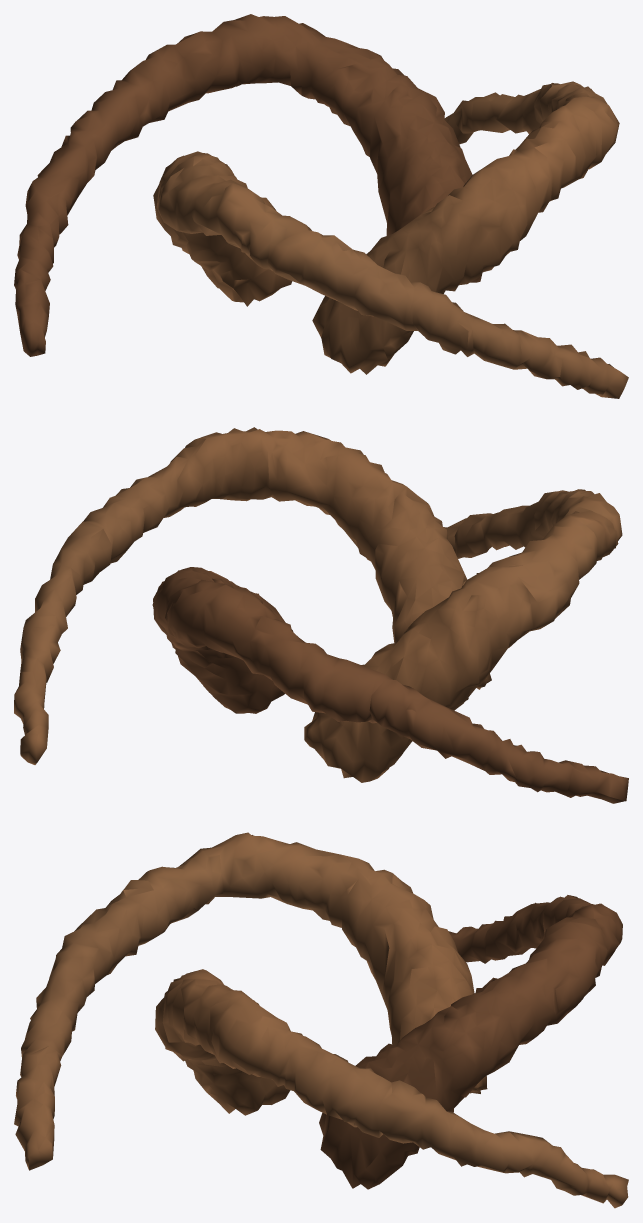
The model's file is glade_root_coil.glb.
The picture shows the model from 3 angles, top to bottom: view 1: azimuth 30°, elevation 25°; view 2: azimuth 150°, elevation 25°; view 3: azimuth 270°, elevation 25°; orthographic projection.
Visible parts, largest first — view 1: glade_root_coil; view 2: glade_root_coil; view 3: glade_root_coil.
Boxes of the visible parts, x1,y1,x2,y2 form: glade_root_coil: [14, 14, 628, 398]; glade_root_coil: [14, 427, 628, 803]; glade_root_coil: [14, 832, 628, 1208].
Bounding box in the file's own units: 13.37 × 4.97 × 12.75.
